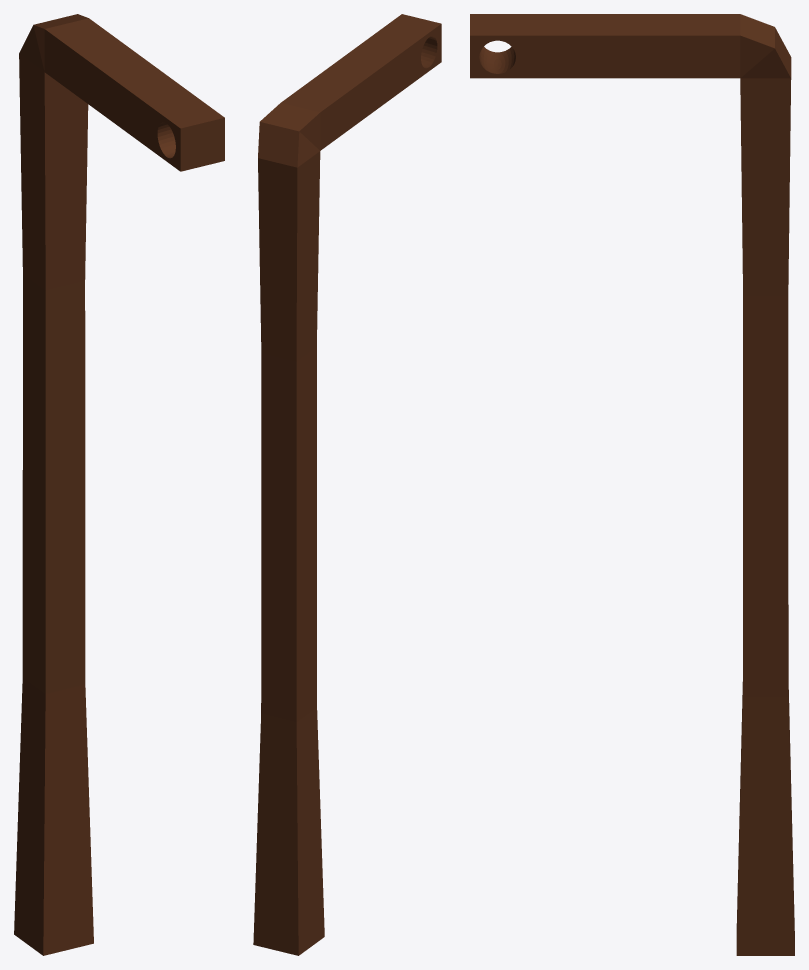
The model's file is post.dae.
3 renders of one model, left to right at view 1: azimuth 30°, elevation 25°; view 2: azimuth 150°, elevation 25°; view 3: azimuth 270°, elevation 25°, orthographic. The views are drawn at different scales.
Visible parts, largest first — view 1: post; view 2: post; view 3: post.
Part boxes in pixels (bbox=[...]): post: bbox=[14, 14, 224, 955]; post: bbox=[253, 14, 441, 955]; post: bbox=[470, 14, 794, 955].
Size of what is drawn, in the model's own units: 0.4323 by 2.28 by 7.11.
